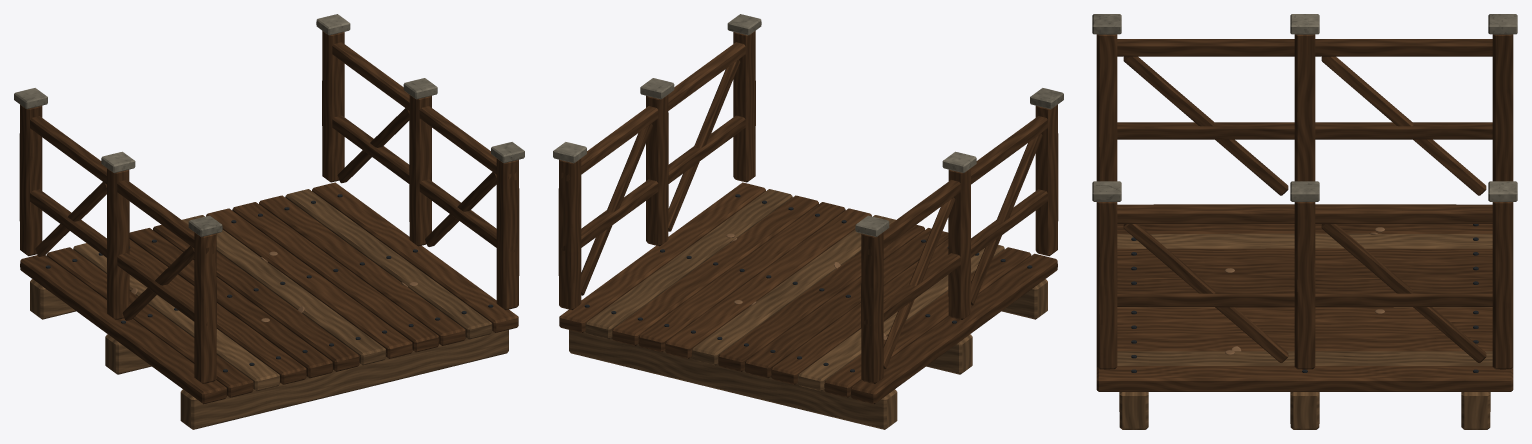
The picture shows the model from 3 angles, left to right: view 1: azimuth 30°, elevation 25°; view 2: azimuth 150°, elevation 25°; view 3: azimuth 270°, elevation 25°; orthographic projection. The views are drawn at different scales.
Parts seen in each view (by area): view 1: quarter-sawn-timber, exposed-end-grain, dressed-fieldstone-edges, blackened-forged-iron; view 2: quarter-sawn-timber, exposed-end-grain, dressed-fieldstone-edges, blackened-forged-iron; view 3: quarter-sawn-timber, exposed-end-grain, dressed-fieldstone-edges, blackened-forged-iron.
Part boxes in pixels (<box>): quarter-sawn-timber: <box>19,31,519,404</box>; exposed-end-grain: <box>30,189,508,429</box>; dressed-fieldstone-edges: <box>14,14,524,236</box>; blackened-forged-iron: <box>45,194,493,372</box>; quarter-sawn-timber: <box>558,31,1058,404</box>; exposed-end-grain: <box>569,189,1047,429</box>; dressed-fieldstone-edges: <box>553,14,1063,236</box>; blackened-forged-iron: <box>584,194,1032,372</box>; quarter-sawn-timber: <box>1096,34,1513,391</box>; exposed-end-grain: <box>1096,233,1513,429</box>; dressed-fieldstone-edges: <box>1092,14,1517,201</box>; blackened-forged-iron: <box>1131,224,1478,372</box>.
Bounding box in the file's own units: 2.04 × 1.27 × 2.04.
7 materials, 5 textured.
